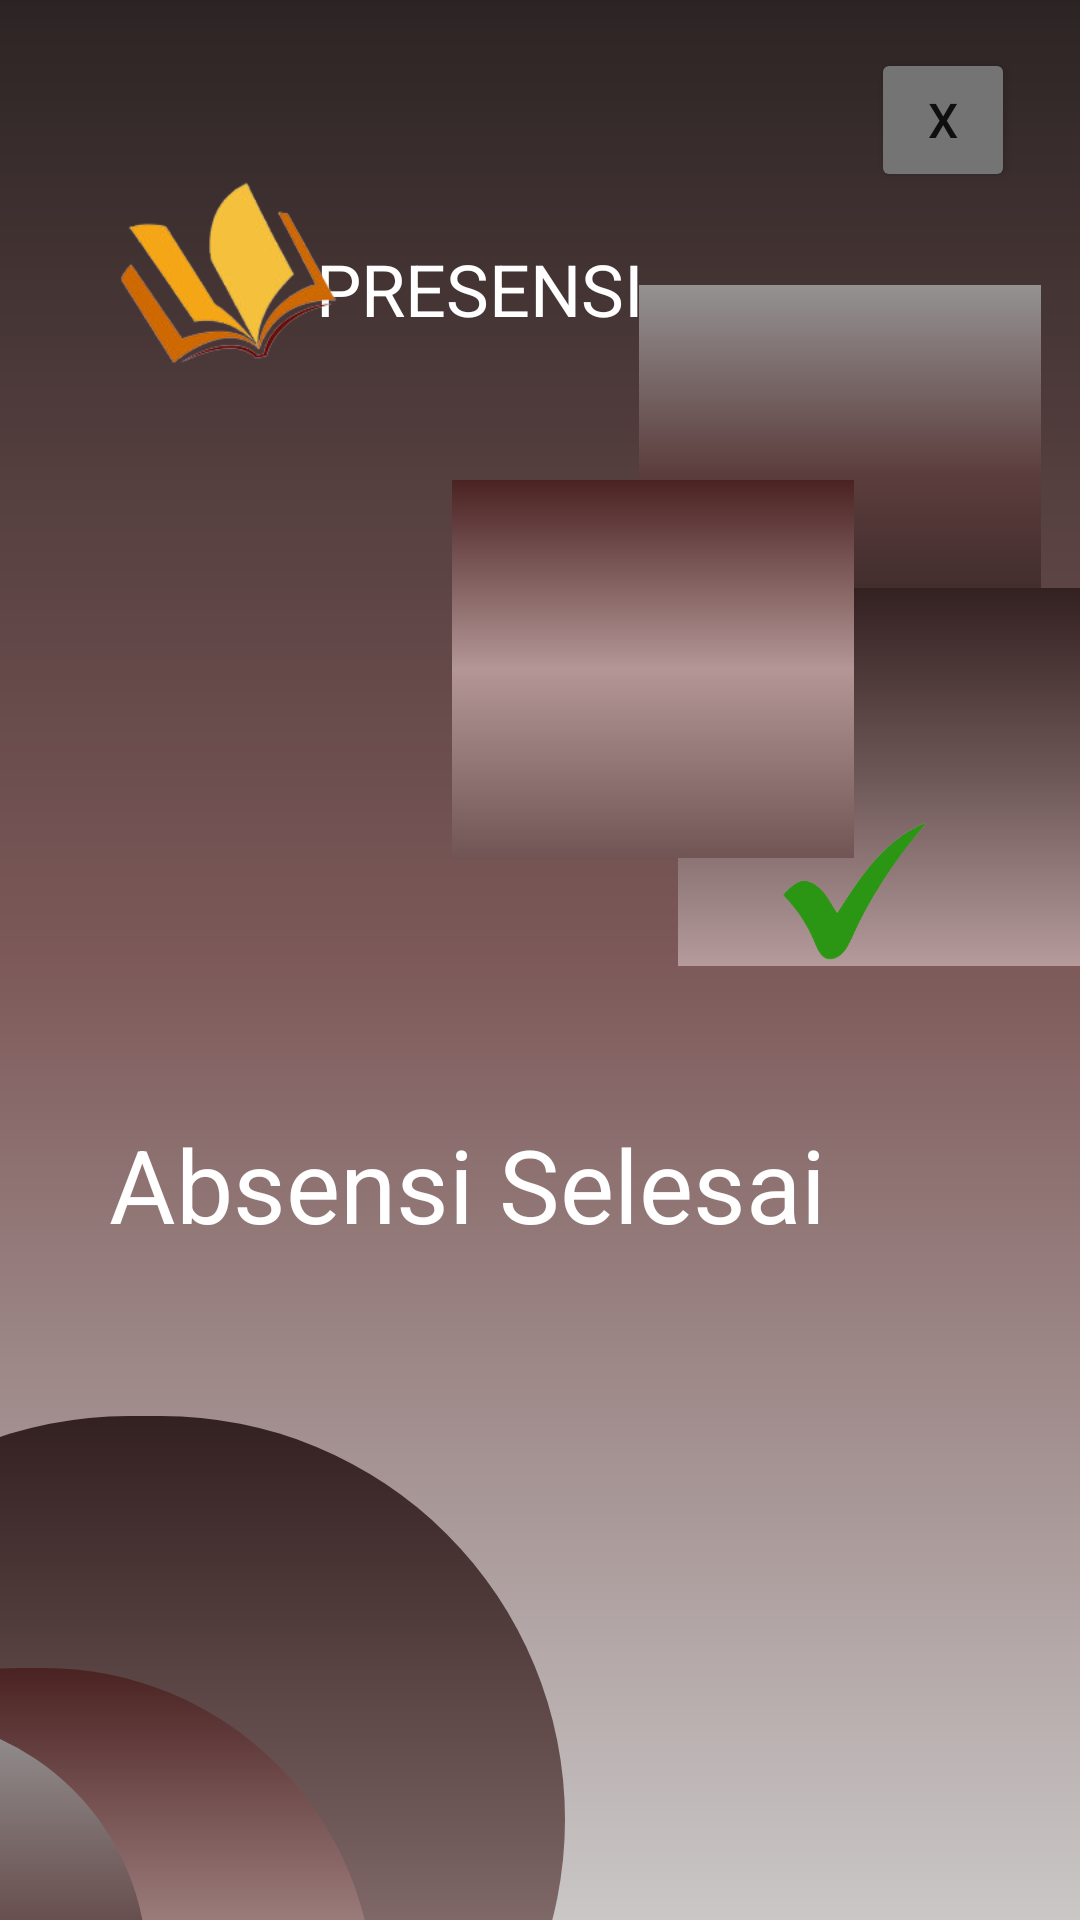

Where to tap for icons on this 1080x1920 app screen, as (x=x, y=y):
checlist: (x=855, y=894)
